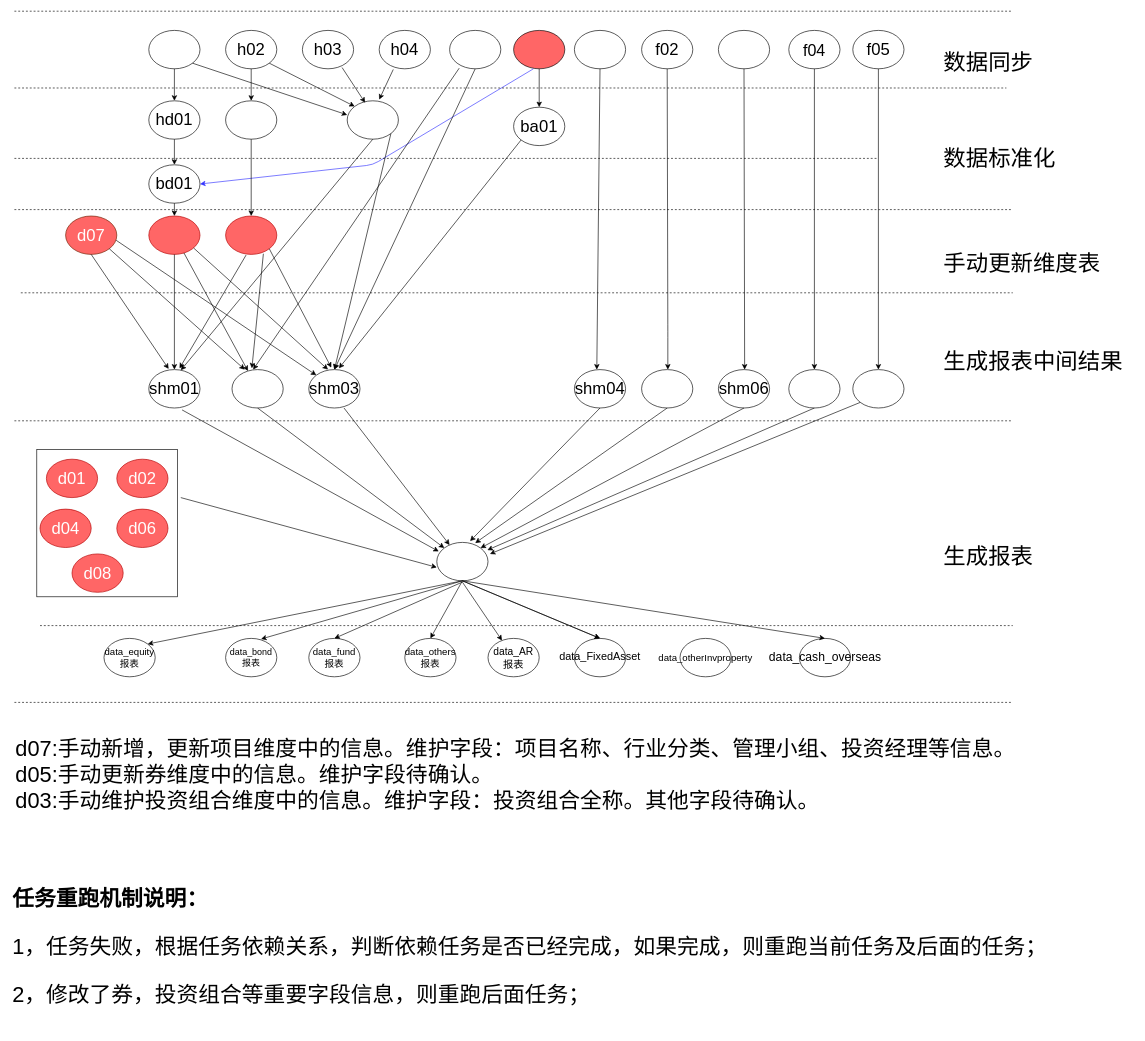
Some shapes in this 1145 by 1041 pixel diagram are drawn without their labels. The shapes that lost their labels are listed below. From the top down, each one's centre as x and y in pixels, then its label:
At (x=174, y=49): "h01".
At (x=475, y=49): "h05".
At (x=539, y=49): "b01".
At (x=600, y=49): "f01".
At (x=744, y=49): "f03".
At (x=251, y=119): "hd02".
At (x=372, y=119): "sh01".
At (x=174, y=234): "d05".
At (x=251, y=234): "d03".
At (x=257, y=388): "shm02".
At (x=667, y=388): "shm05".
At (x=814, y=388): "shm07".
At (x=878, y=388): "shm08".
At (x=462, y=561): "shf01".
